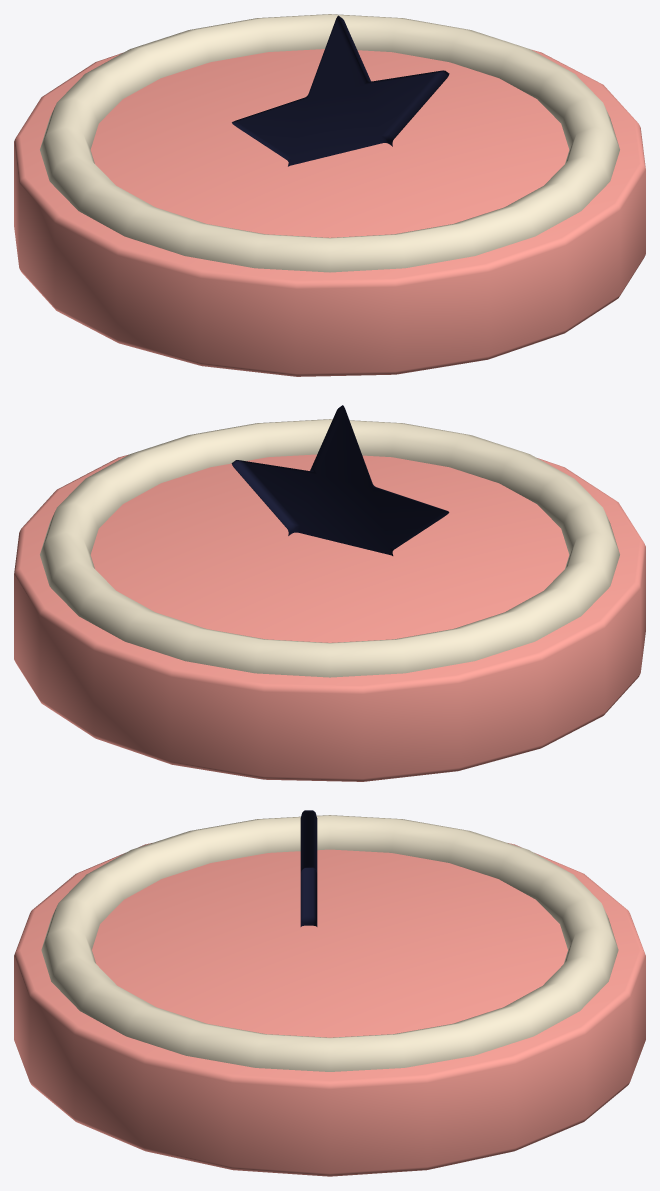
Rendered from r064_kart_vehicle_selection_pads_selection_pad_01.glb.
The picture shows the model from 3 angles, top to bottom: view 1: azimuth 30°, elevation 25°; view 2: azimuth 150°, elevation 25°; view 3: azimuth 270°, elevation 25°; orthographic projection.
Parts seen in each view (by area): view 1: r064_kart_vehicle_selection_pads_selection_pad_01.001; view 2: r064_kart_vehicle_selection_pads_selection_pad_01.001; view 3: r064_kart_vehicle_selection_pads_selection_pad_01.001.
Boxes of the visible parts, <box> form: r064_kart_vehicle_selection_pads_selection_pad_01.001: <box>14,14,645,376</box>; r064_kart_vehicle_selection_pads_selection_pad_01.001: <box>14,405,645,781</box>; r064_kart_vehicle_selection_pads_selection_pad_01.001: <box>14,810,645,1176</box>.
Size of the model in its own units: 3 by 1.23 by 3.
